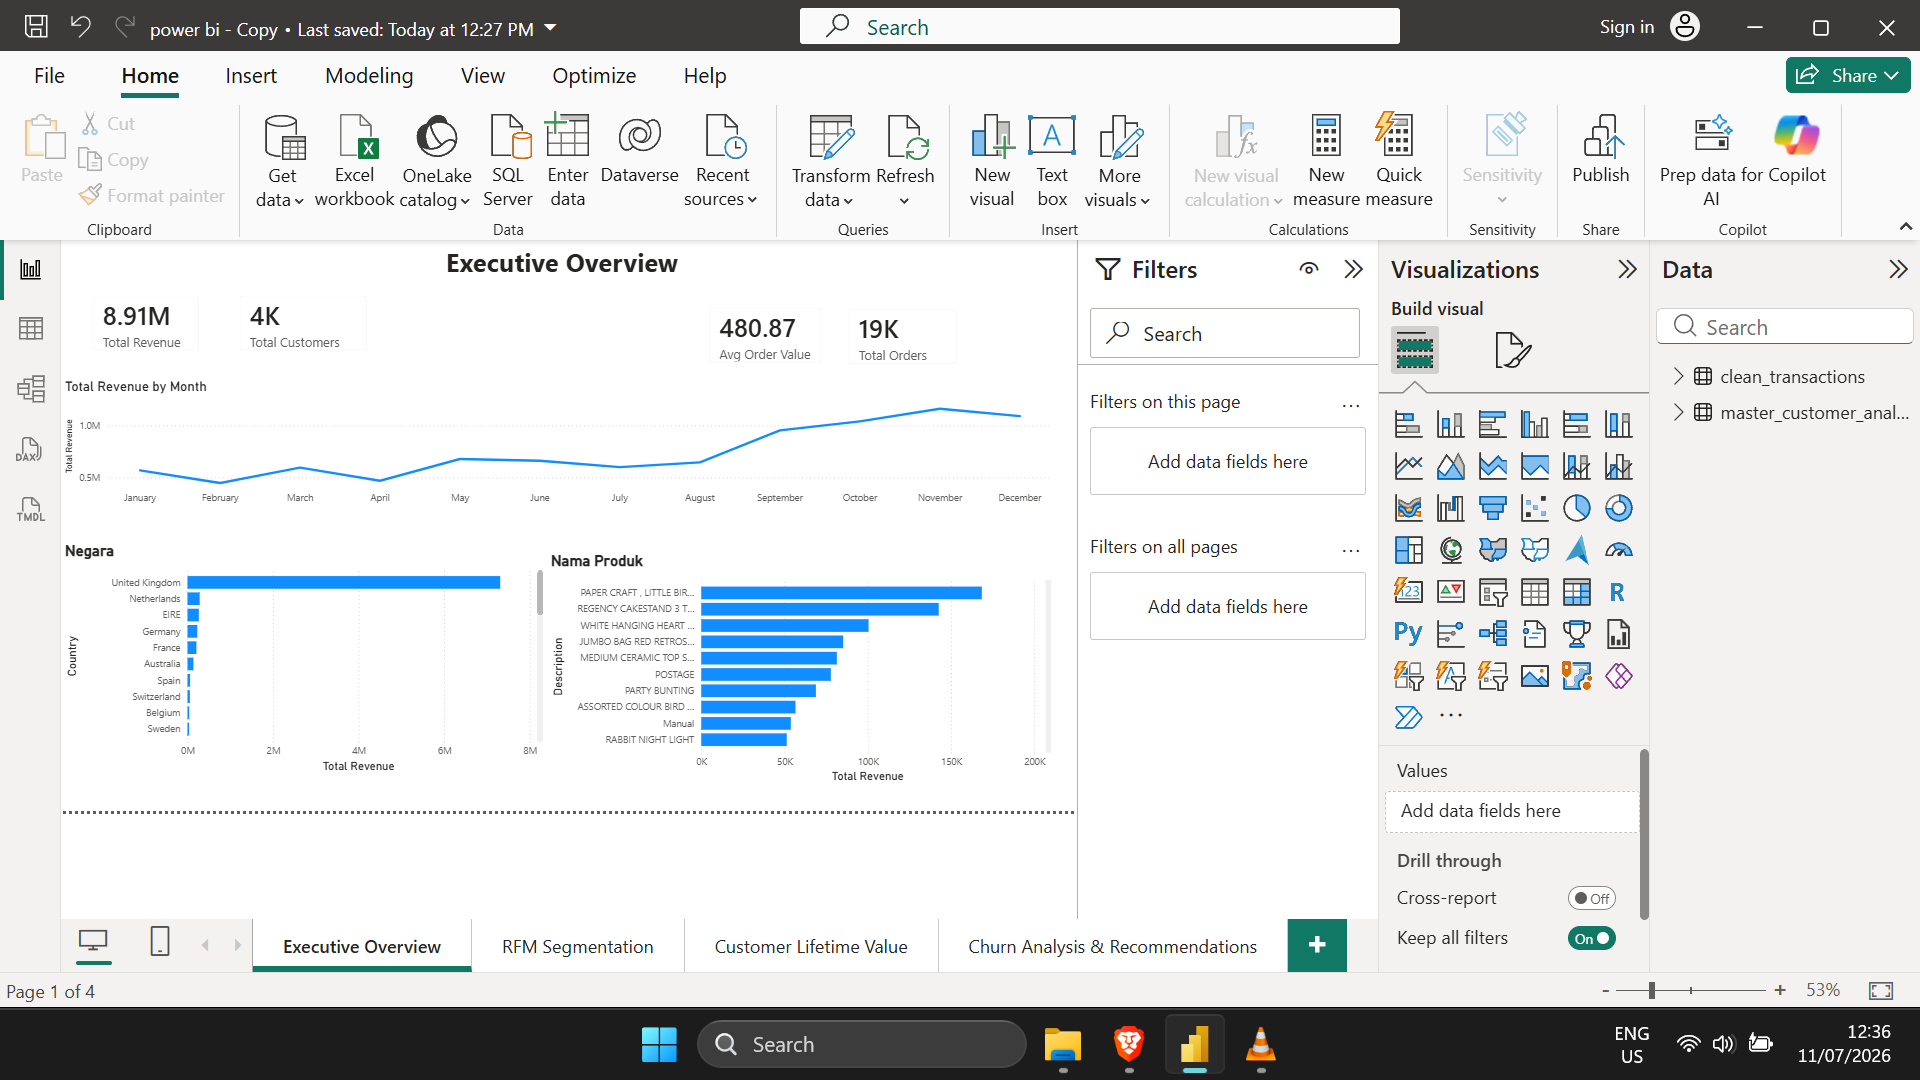

What the dashboard file says about the page in this screenshot:
{"tool":"powerbi","page":{"name":"Executive Overview","canvas":[1280,720],"ordinal":0},"visuals":[{"type":"textbox","box":[480,0,319.4,68],"z":0},{"type":"cardVisual","fields":{"Data":["master_customer_analytics.Avg Order Value"]},"box":[799.4,68,175.7,103.9],"z":1000},{"type":"cardVisual","fields":{"Data":["master_customer_analytics.Total Orders"]},"box":[975.1,69.9,170.1,103.9],"z":2000},{"type":"cardVisual","fields":{"Data":["master_customer_analytics.Total Revenue"]},"box":[22.7,52.9,168.2,103.9],"z":3000},{"type":"cardVisual","fields":{"Data":["master_customer_analytics.Total Customers"]},"box":[207.9,52.9,194.6,103.9],"z":4000},{"type":"lineChart","fields":{"Category":["clean_transactions.InvoiceDate.Variation.Date Hierarchy.Month"],"Y":["master_customer_analytics.Total Revenue"]},"box":[0,173.9,1252.9,168.2],"z":5000},{"type":"clusteredBarChart","title":"Negara","fields":{"Category":["clean_transactions.Country"],"Y":["master_customer_analytics.Total Revenue"]},"box":[0,379.8,612.3,294.8],"z":6000},{"type":"clusteredBarChart","title":"Nama Produk","fields":{"Category":["clean_transactions.Description"],"Y":["master_customer_analytics.Total Revenue"]},"box":[612.3,393.1,640.6,294.8],"z":7000}]}

Visuals, with their boxes on the page's 1280x720 design canvas (x1, y1, x2, y2). These are canvas units, not pixel positions in the 1920x1080 screenshot, which may show the page scaled, cropped or inside an application window:
textbox: BBox(480, 0, 799, 68)
cardVisual - master_customer_analytics.Avg Order Value: BBox(799, 68, 975, 172)
cardVisual - master_customer_analytics.Total Orders: BBox(975, 70, 1145, 174)
cardVisual - master_customer_analytics.Total Revenue: BBox(23, 53, 191, 157)
cardVisual - master_customer_analytics.Total Customers: BBox(208, 53, 402, 157)
lineChart - clean_transactions.InvoiceDate.Variation.Date Hierarchy.Month x master_customer_analytics.Total Revenue: BBox(0, 174, 1253, 342)
"Negara" clusteredBarChart: BBox(0, 380, 612, 675)
"Nama Produk" clusteredBarChart: BBox(612, 393, 1253, 688)
